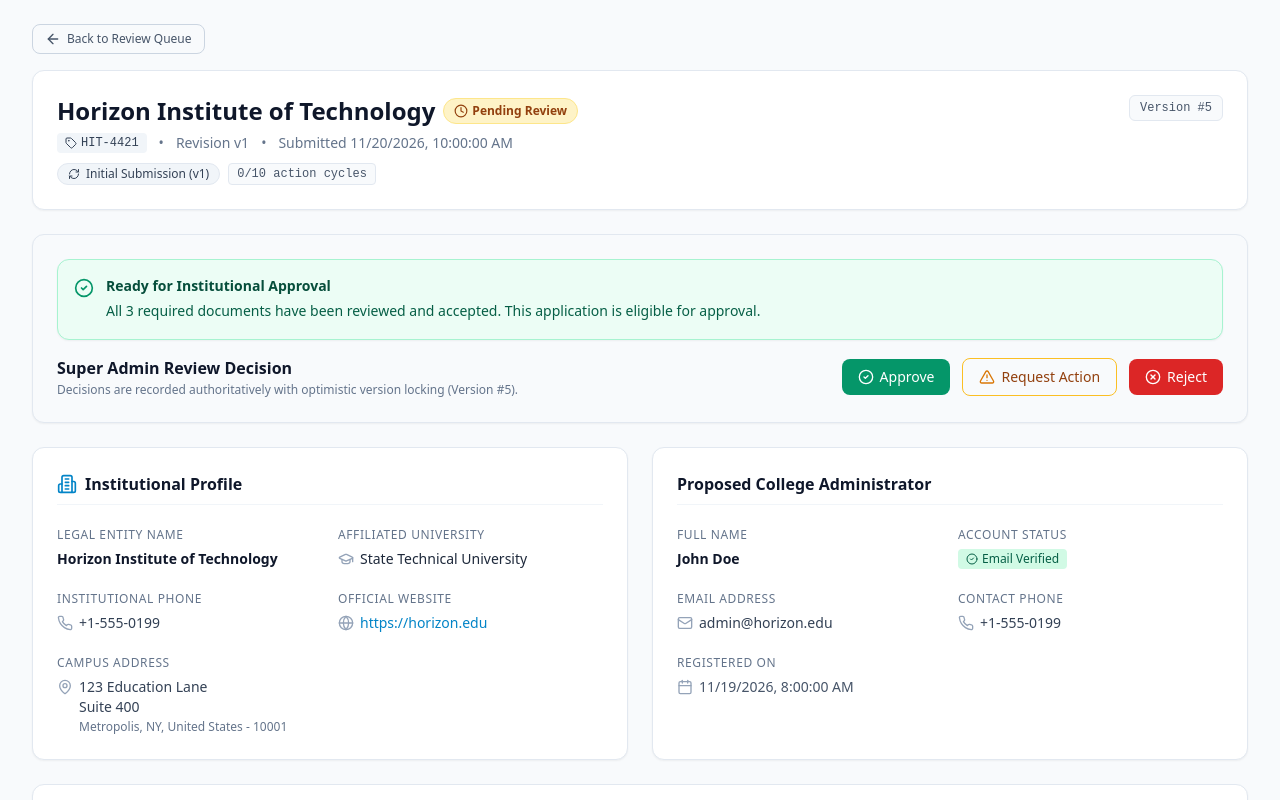
it: Module 3.4 — Super Admin Approval Queue & Review Workflow (Frontend) › 14. validates REQUEST_ACTION requires review notes of at least 10 characters
Click the button "Request Action" at (1040, 377), box [962,358,1117,396]
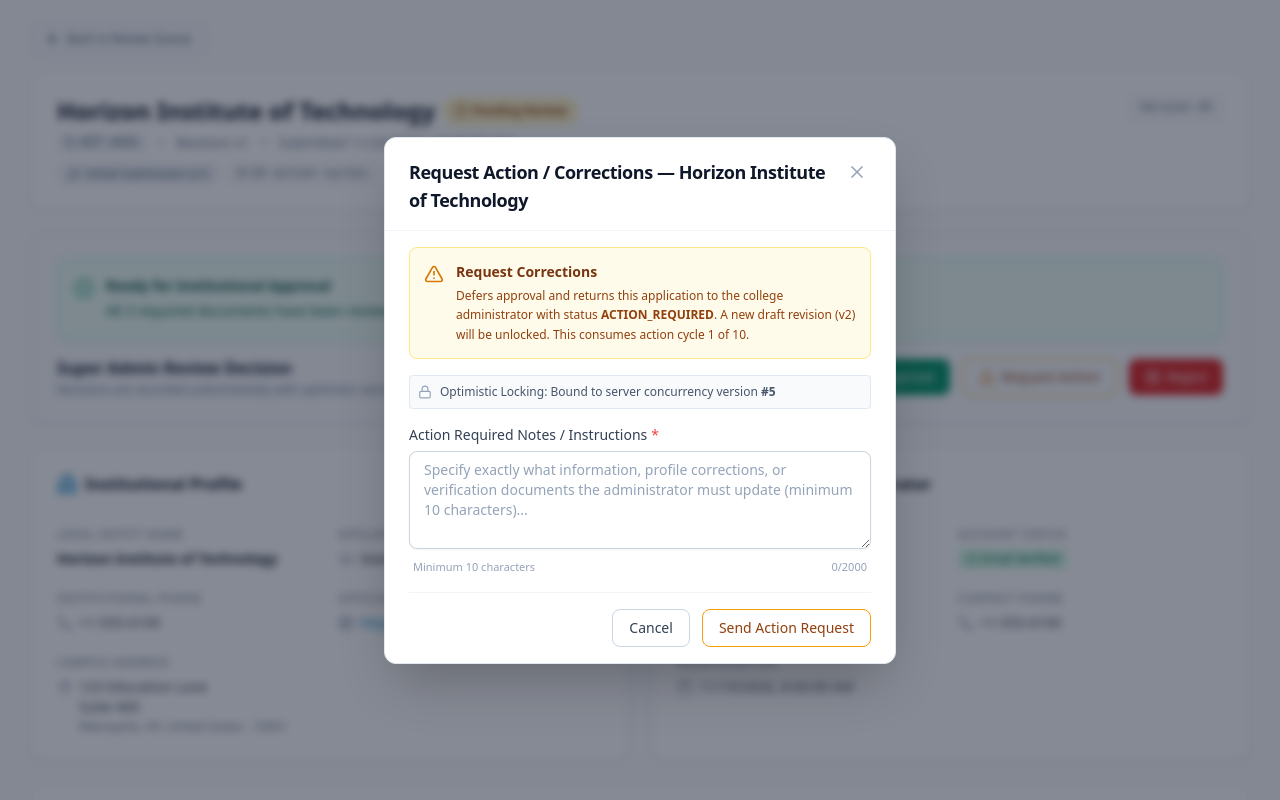
expect the button "Send Action Request" is shown: met
Attempt submitting without notes
Click the button "Send Action Request" at (786, 628), box [702,608,871,646]
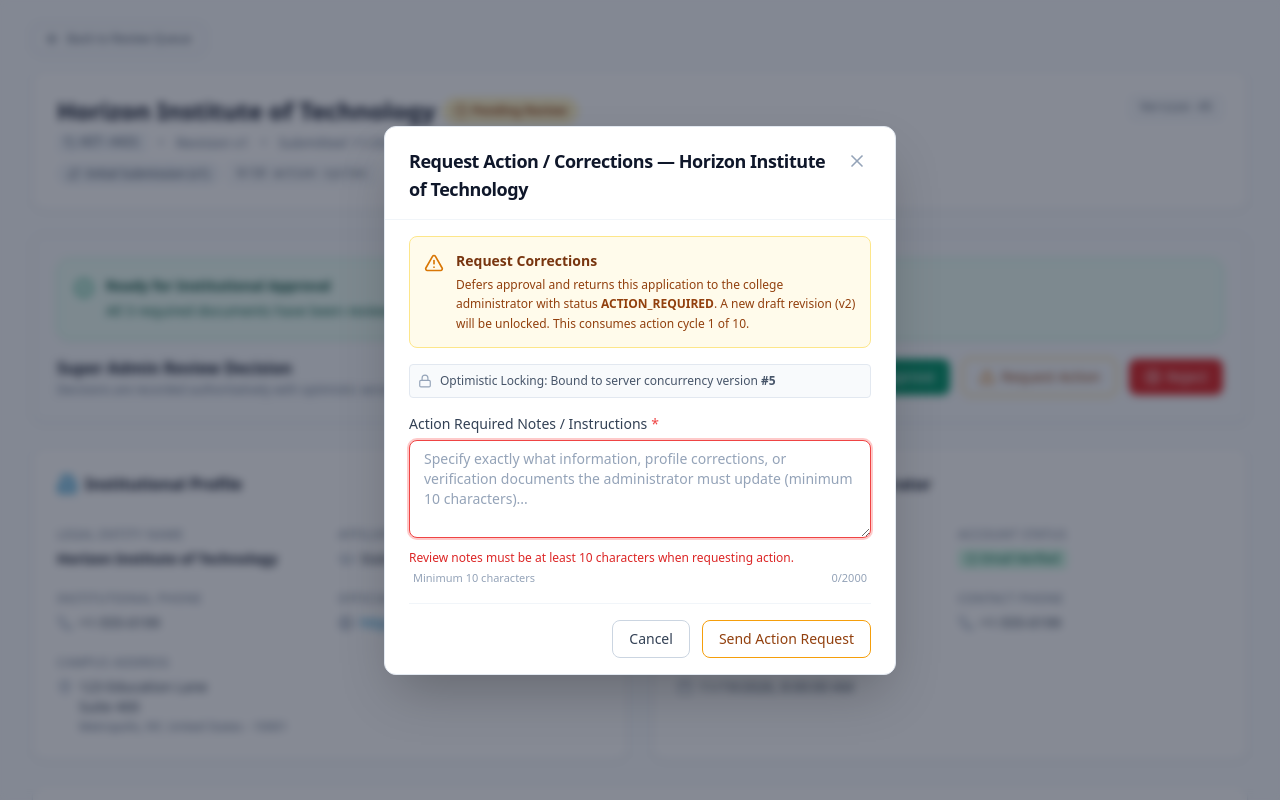
expect the text "Review notes must be at least 10 characters when requesting action." is shown: met, box [409,549,794,566]
